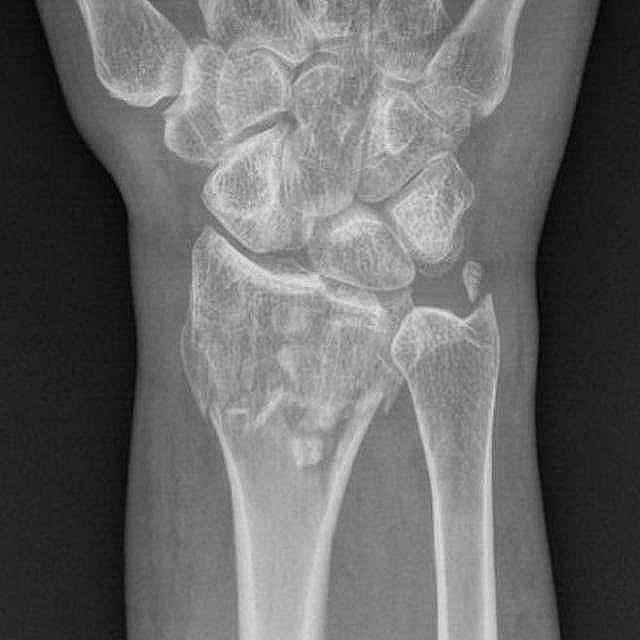bone: (184, 224, 403, 506)
